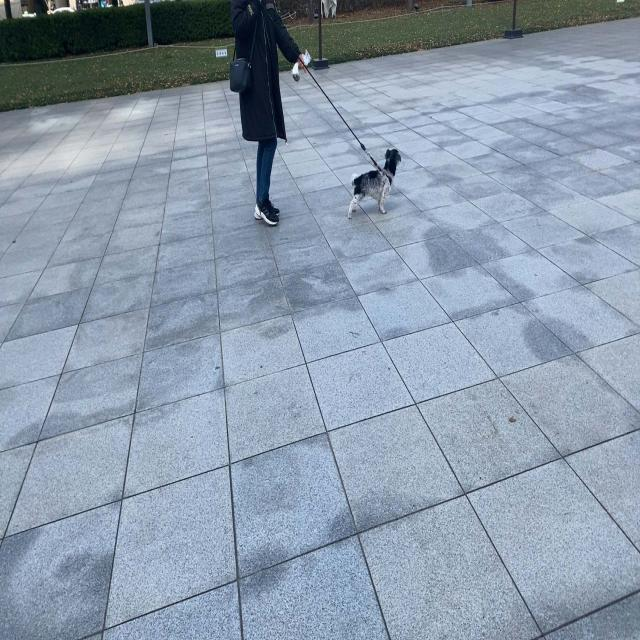Leashed_Dog: (266, 24, 402, 220)
